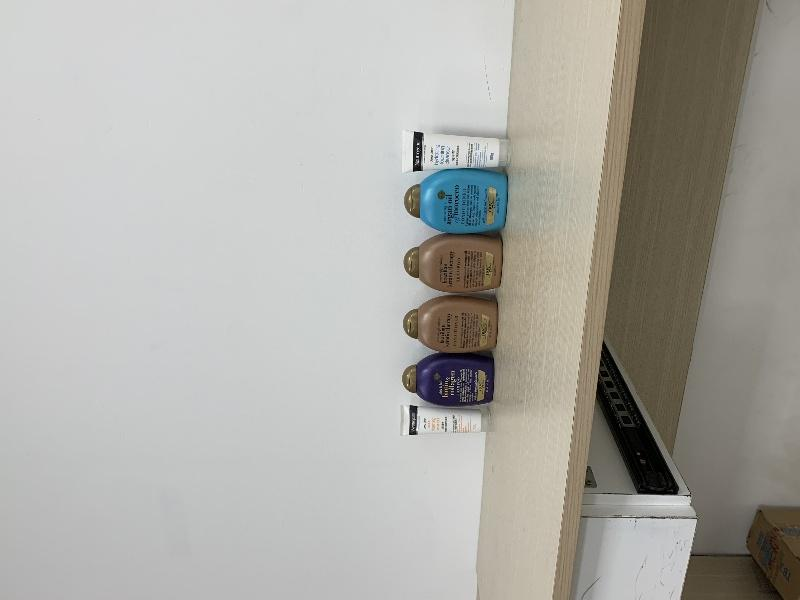AcneFoamingCleanser: (401, 405, 494, 436)
ArganOilOfMorocco_Conditioner: (404, 169, 507, 234)
BiotinCollagen_Shampoo: (402, 353, 494, 406)
BrazilianKeratinTherapy_Shampoo: (403, 233, 502, 292)
BrazilianKerationTherapy_Conditioner: (403, 295, 498, 353)
HydratingFoamingCleanser: (402, 130, 511, 168)
